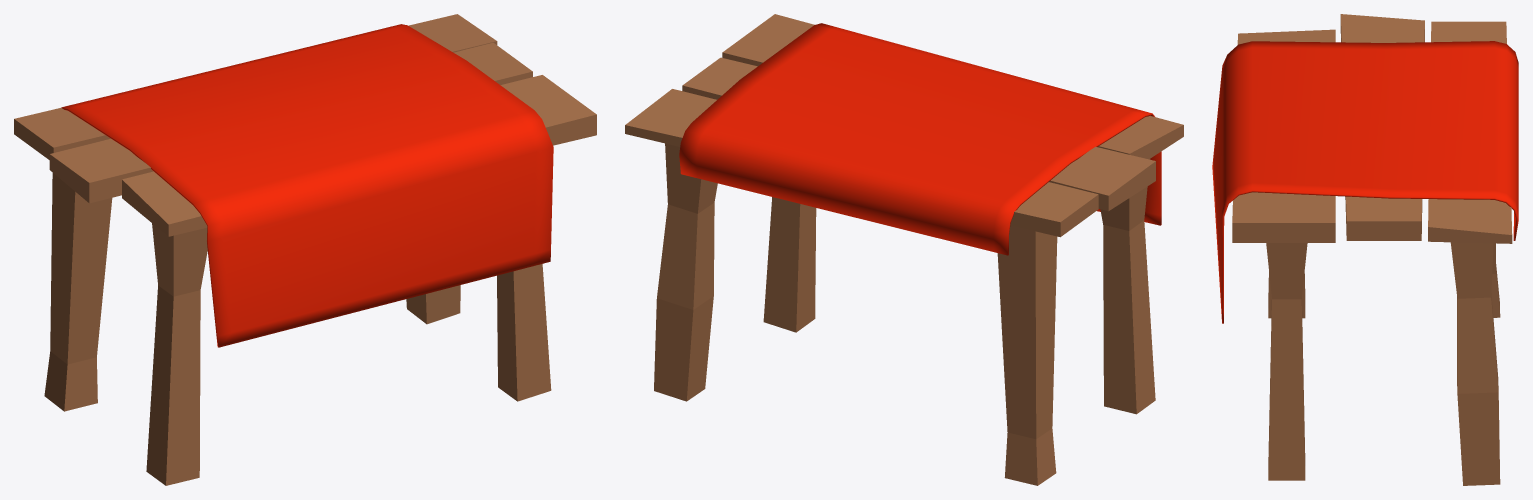
The model's file is Table_2.fbx.
3 views of the same model, side by side, from view 1: azimuth 30°, elevation 25°; view 2: azimuth 150°, elevation 25°; view 3: azimuth 270°, elevation 25° (orthographic). The views are drawn at different scales.
Visible parts, largest first — view 1: Table_2; view 2: Table_2; view 3: Table_2.
Part boxes in pixels (box(x1,y1,x2,y2)): Table_2: box(14, 14, 596, 485); Table_2: box(625, 14, 1183, 485); Table_2: box(1212, 14, 1518, 485).
Bounding box in the file's own units: 160 × 98.77 × 97.46.
